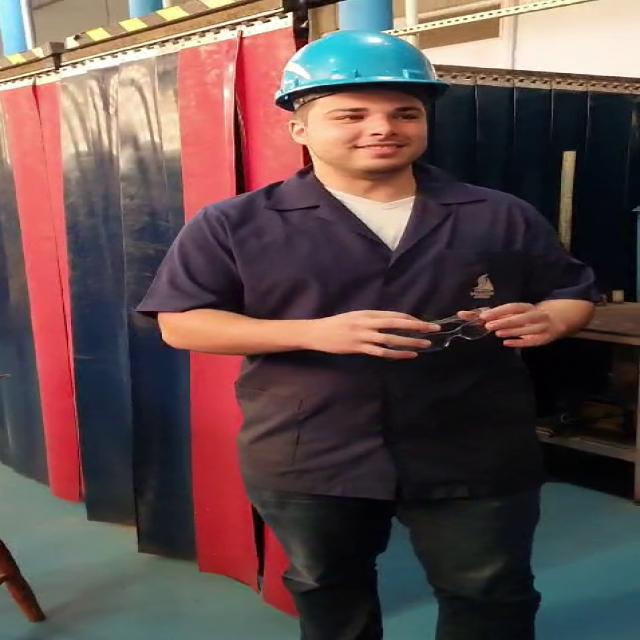sem_oculos: (292, 110, 433, 129), (429, 111, 434, 113)
